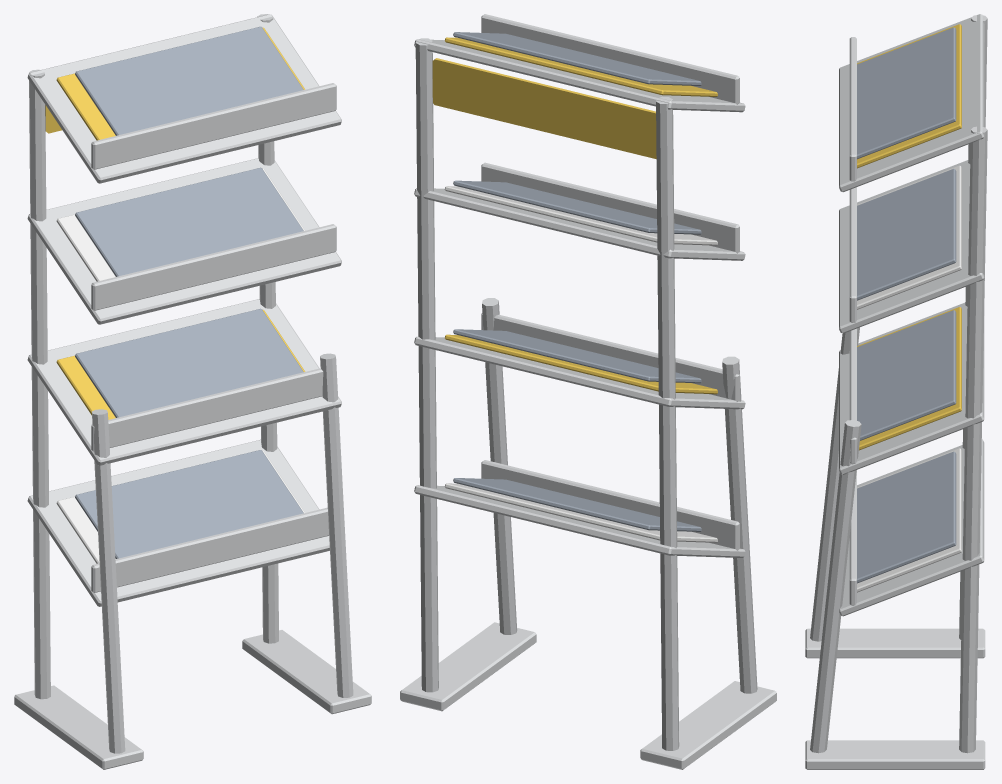
The model's file is laundrette-and-cleaning-magazine-rack-96ad7ff9__25550.glb.
3 renders of one model, left to right at view 1: azimuth 30°, elevation 25°; view 2: azimuth 150°, elevation 25°; view 3: azimuth 270°, elevation 25°, orthographic. The views are drawn at different scales.
Visible parts, largest first — view 1: magazine-rack; view 2: magazine-rack; view 3: magazine-rack.
Part boxes in pixels (box(x1,y1,x2,y2)): magazine-rack: box(14, 14, 371, 769); magazine-rack: box(400, 14, 776, 769); magazine-rack: box(805, 14, 987, 769).
Size of the model in its own units: 0.52 by 1.17 by 0.304.
